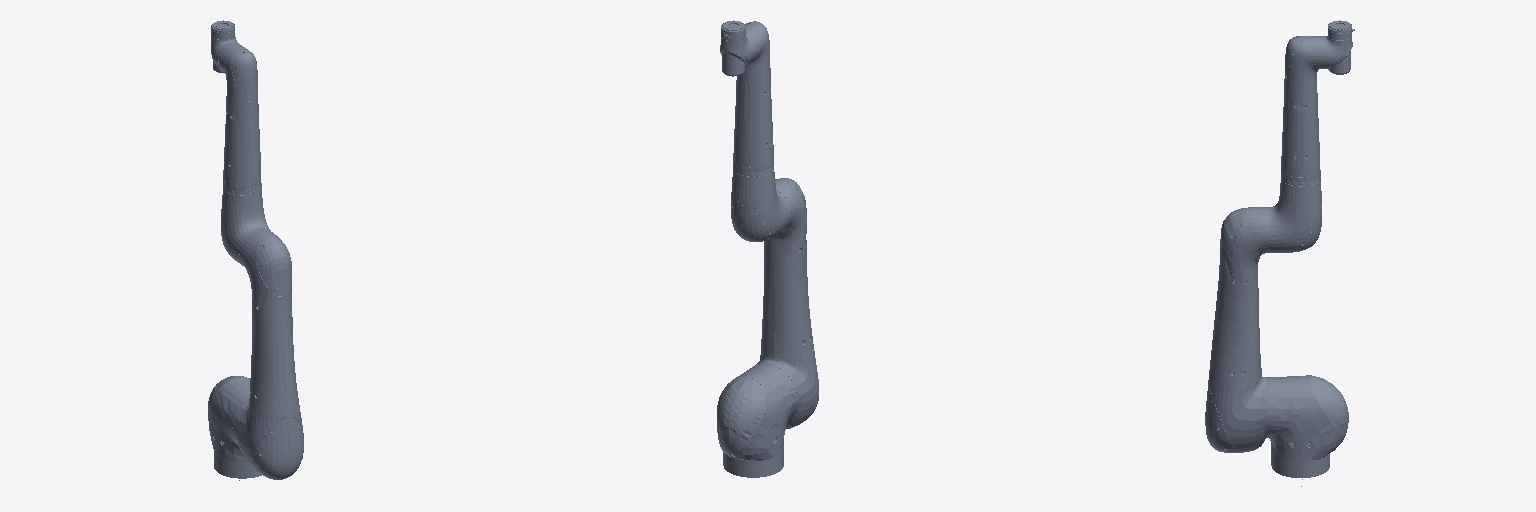
URDF robot description (robot):
<?xml version="1.0"?>
<robot name="robot">
  <link name="base_link">
    <inertial>
      <origin xyz="0.029403 -0.001813 0.058092" rpy="0 0 3.14159"/>
      <mass value="15.351205"/>
      <inertia ixx="0.118027" ixy="0.011128" ixz="-0.002011" iyy="0.212888" iyz="-0.000191" izz="0.292389"/>
    </inertial>
    <visual>
      <origin xyz="0 0 0" rpy="0 0 3.14159"/>
      <geometry><mesh filename="package://rokae_description/meshes/cr45/base_link.obj"/></geometry>
      <material name="base_link_material"><color rgba="0.541 0.576 0.651 1"/></material>
    </visual>
    <collision>
      <origin xyz="0 0 0" rpy="0 0 3.14159"/>
      <geometry><mesh filename="package://rokae_description/meshes/cr45/base_link.obj"/></geometry>
    </collision>
  </link>
  <link name="link_1">
    <inertial>
      <origin xyz="-0.000001 -0.012245 0.244534" rpy="0 0 3.1415"/>
      <mass value="40.360397"/>
      <inertia ixx="0.840933" ixy="0.000039" ixz="0.000011" iyy="0.721193" iyz="-0.005528" izz="0.503656"/>
    </inertial>
    <visual>
      <origin xyz="0 0 0" rpy="0 0 0"/>
      <geometry><mesh filename="package://rokae_description/meshes/cr45/link_1.obj"/></geometry>
      <material name="link_1_material"><color rgba="0.541 0.576 0.651 1"/></material>
    </visual>
    <collision>
      <origin xyz="0 0 0" rpy="0 0 0"/>
      <geometry><mesh filename="package://rokae_description/meshes/cr45/link_1.obj"/></geometry>
    </collision>
  </link>
  <link name="link_2">
    <inertial>
      <origin xyz="-0.000006 0.132712 0.302142" rpy="0 0 0"/>
      <mass value="64.899220"/>
      <inertia ixx="8.129535" ixy="0.000031" ixz="-0.000011" iyy="8.079211" iyz="0.201434" izz="0.506519"/>
    </inertial>
    <visual>
      <origin xyz="0 0 0" rpy="0 0 0"/>
      <geometry><mesh filename="package://rokae_description/meshes/cr45/link_2.obj"/></geometry>
      <material name="link_2_material"><color rgba="0.541 0.576 0.651 1"/></material>
    </visual>
    <collision>
      <origin xyz="0 0 0" rpy="0 0 0"/>
      <geometry><mesh filename="package://rokae_description/meshes/cr45/link_2.obj"/></geometry>
    </collision>
  </link>
  <link name="link_3">
    <inertial>
      <origin xyz="-0.000002 -0.127110 0.075726" rpy="0 0 0"/>
      <mass value="17.188386"/>
      <inertia ixx="0.231055" ixy="0.000000" ixz="-0.000001" iyy="0.209136" iyz="0.033805" izz="0.113361"/>
    </inertial>
    <visual>
      <origin xyz="0 0 0" rpy="0 0 0"/>
      <geometry><mesh filename="package://rokae_description/meshes/cr45/link_3.obj"/></geometry>
      <material name="link_3_material"><color rgba="0.541 0.576 0.651 1"/></material>
    </visual>
    <collision>
      <origin xyz="0 0 0" rpy="0 0 0"/>
      <geometry><mesh filename="package://rokae_description/meshes/cr45/link_3.obj"/></geometry>
    </collision>
  </link>
  <link name="link_4">
    <inertial>
      <origin xyz="0.000005 -0.004424 0.312037" rpy="0 0 0"/>
      <mass value="19.420896"/>
      <inertia ixx="0.861828" ixy="-0.000004" ixz="-0.000034" iyy="0.857702" iyz="0.025929" izz="0.068613"/>
    </inertial>
    <visual>
      <origin xyz="0 0 0" rpy="0 0 0"/>
      <geometry><mesh filename="package://rokae_description/meshes/cr45/link_4.obj"/></geometry>
      <material name="link_4_material"><color rgba="0.541 0.576 0.651 1"/></material>
    </visual>
    <collision>
      <origin xyz="0 0 0" rpy="0 0 0"/>
      <geometry><mesh filename="package://rokae_description/meshes/cr45/link_4.obj"/></geometry>
    </collision>
  </link>
  <link name="link_5">
    <inertial>
      <origin xyz="-0.000004 -0.045330 0.001764" rpy="0 0 0"/>
      <mass value="3.141154"/>
      <inertia ixx="0.011087" ixy="0.000000" ixz="0.000000" iyy="0.010696" iyz="0.000156" izz="0.007349"/>
    </inertial>
    <visual>
      <origin xyz="0 0 0" rpy="0 0 0"/>
      <geometry><mesh filename="package://rokae_description/meshes/cr45/link_5.obj"/></geometry>
      <material name="link_5_material"><color rgba="0.541 0.576 0.651 1"/></material>
    </visual>
    <collision>
      <origin xyz="0 0 0" rpy="0 0 0"/>
      <geometry><mesh filename="package://rokae_description/meshes/cr45/link_5.obj"/></geometry>
    </collision>
  </link>
  <link name="link_6">
    <inertial>
      <origin xyz="-0.000005 -0.000122 0.059861" rpy="0 0 0"/>
      <mass value="0.638742"/>
      <inertia ixx="0.000656" ixy="0.000000" ixz="0.000000" iyy="0.000653" iyz="0.000001" izz="0.001056"/>
    </inertial>
    <visual>
      <origin xyz="0 0 0" rpy="0 0 0"/>
      <geometry><mesh filename="package://rokae_description/meshes/cr45/link_6.obj"/></geometry>
      <material name="link_6_material"><color rgba="0.541 0.576 0.651 1"/></material>
    </visual>
    <collision>
      <origin xyz="0 0 0" rpy="0 0 0"/>
      <geometry><mesh filename="package://rokae_description/meshes/cr45/link_6.obj"/></geometry>
    </collision>
  </link>
  <joint name="joint_0" type="revolute">
    <parent link="base_link"/>
    <child link="link_1"/>
    <origin xyz="0.000000 0.000000 0.105525" rpy="0 0 3.14159"/>
    <axis xyz="0.000000 0.000000 1.000000"/>
    <limit lower="-3.141593" upper="3.141593" effort="100" velocity="1.0"/>
  </joint>
  <joint name="joint_1" type="revolute">
    <parent link="link_1"/>
    <child link="link_2"/>
    <origin xyz="0.000632 0.149325 0.319475" rpy="0 0 0"/>
    <axis xyz="0.000000 1.000000 0.000000"/>
    <limit lower="-3.141593" upper="3.141593" effort="100" velocity="1.0"/>
  </joint>
  <joint name="joint_2" type="revolute">
    <parent link="link_2"/>
    <child link="link_3"/>
    <origin xyz="0.000000 0.004175 0.900000" rpy="0 0 0"/>
    <axis xyz="0.000000 1.000000 0.000000"/>
    <limit lower="-3.141593" upper="3.141593" effort="100" velocity="1.0"/>
  </joint>
  <joint name="joint_3" type="revolute">
    <parent link="link_3"/>
    <child link="link_4"/>
    <origin xyz="0.000000 -0.153500 0.286496" rpy="0 0 0"/>
    <axis xyz="0.000000 0.000000 1.000000"/>
    <limit lower="-3.141593" upper="3.141593" effort="100" velocity="1.0"/>
  </joint>
  <joint name="joint_4" type="revolute">
    <parent link="link_4"/>
    <child link="link_5"/>
    <origin xyz="0.000000 -0.117889 0.613504" rpy="0 0 0"/>
    <axis xyz="0.000000 1.000000 0.000000"/>
    <limit lower="-3.141593" upper="3.141593" effort="100" velocity="1.0"/>
  </joint>
  <joint name="joint_5" type="revolute">
    <parent link="link_5"/>
    <child link="link_6"/>
    <origin xyz="0.000000 -0.062111 0.053142" rpy="0 0 0"/>
    <axis xyz="0.000000 0.000000 1.000000"/>
    <limit lower="-3.141593" upper="3.141593" effort="100" velocity="1.0"/>
  </joint>
  <link name="tool0"/>
  <joint name="tool0_joint" type="fixed">
    <parent link="link_6"/>
    <child link="tool0"/>
    <origin xyz="0.000000 0.000000 0.086858" rpy="3.14159 0 0"/>
  </joint>
</robot>

--- What the picture shows (computed from the rendered views, not written in the file) ---
The picture shows the robot from 3 angles, left to right: view 1: azimuth 30°, elevation 25°; view 2: azimuth 150°, elevation 25°; view 3: azimuth 270°, elevation 25°; orthographic projection.
Model robot with 8 links and 7 joints (6 revolute, 1 fixed), rooted at base_link, posed every joint at zero.
Links seen in each view (by area): view 1: link_2, link_4, link_1, link_3; view 2: link_2, link_1, link_4, link_3, link_5; view 3: link_2, link_1, link_4, link_3, link_5.
Link boxes in pixels (bbox=[...]): link_2: bbox=[233, 229, 303, 479]; link_4: bbox=[218, 43, 261, 194]; link_1: bbox=[208, 376, 261, 480]; link_3: bbox=[221, 188, 270, 265]; link_2: bbox=[752, 178, 818, 429]; link_1: bbox=[717, 364, 796, 477]; link_4: bbox=[733, 21, 773, 176]; link_3: bbox=[731, 170, 791, 241]; link_5: bbox=[720, 33, 756, 76]; link_2: bbox=[1205, 207, 1267, 452]; link_1: bbox=[1268, 375, 1348, 486]; link_4: bbox=[1281, 36, 1321, 185]; link_3: bbox=[1267, 179, 1321, 252]; link_5: bbox=[1322, 36, 1352, 74].
Size in the robot's own frame: 0.2812 by 0.687 by 2.37 metres.
Meshes: 7 distinct files referenced, 6 mesh visuals loaded (6 OBJ); not drawn: 1 (reference not matched to a file when rendering).
